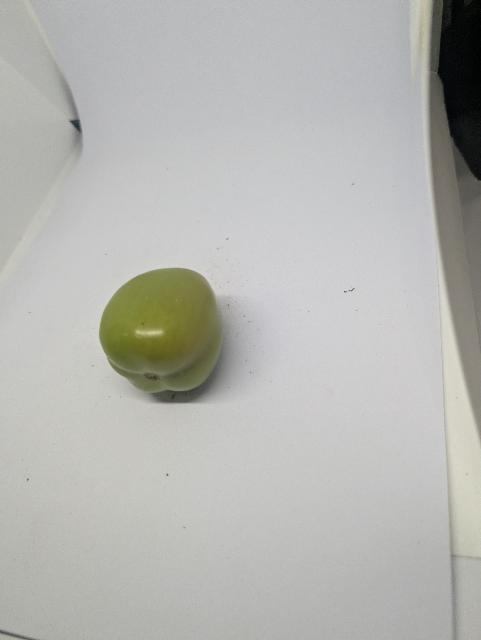green: (88, 250, 283, 413)
